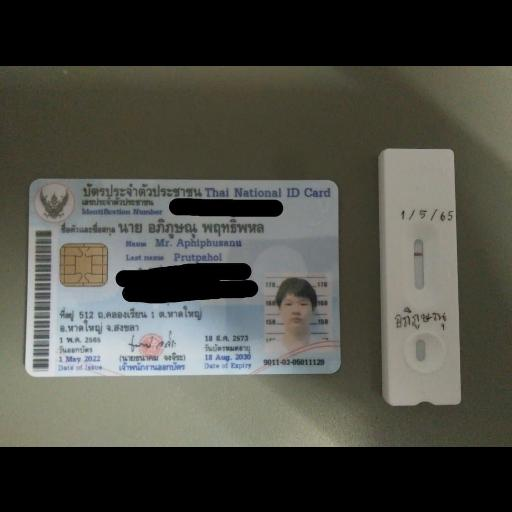Neg: (380, 146, 460, 404)
